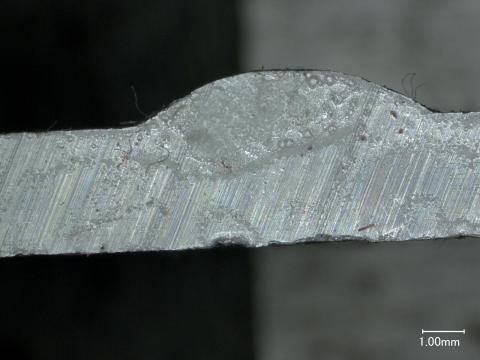test: (135, 69, 432, 124)
